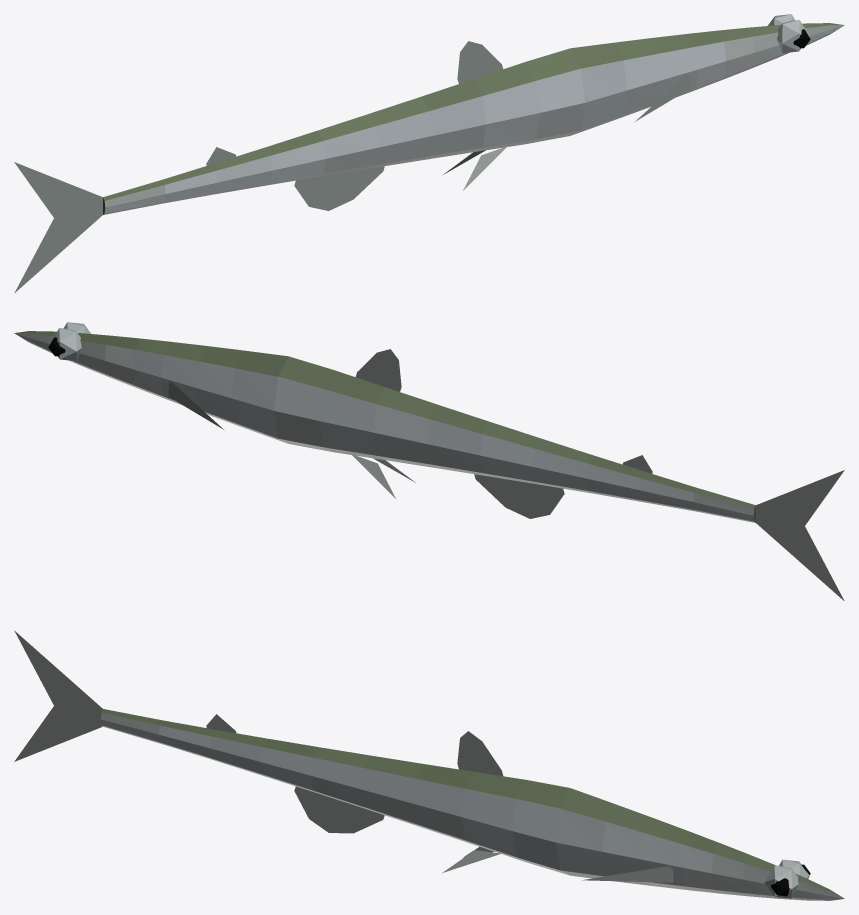
File: rainbow-smelt.glb
The picture shows the model from 3 angles, top to bottom: view 1: azimuth 30°, elevation 25°; view 2: azimuth 150°, elevation 25°; view 3: azimuth 330°, elevation 25°; orthographic projection.
Visible parts, largest first — view 1: rainbow-smelt; view 2: rainbow-smelt; view 3: rainbow-smelt.
Boxes of the visible parts, x1,y1,x2,y2 form: rainbow-smelt: (14,14,844,292); rainbow-smelt: (14,322,844,600); rainbow-smelt: (14,630,844,900).
Bounding box in the file's own units: 1.12 × 0.1829 × 0.1238.
